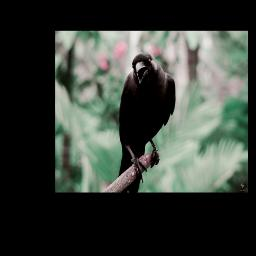Crow: (117, 52, 176, 192)
